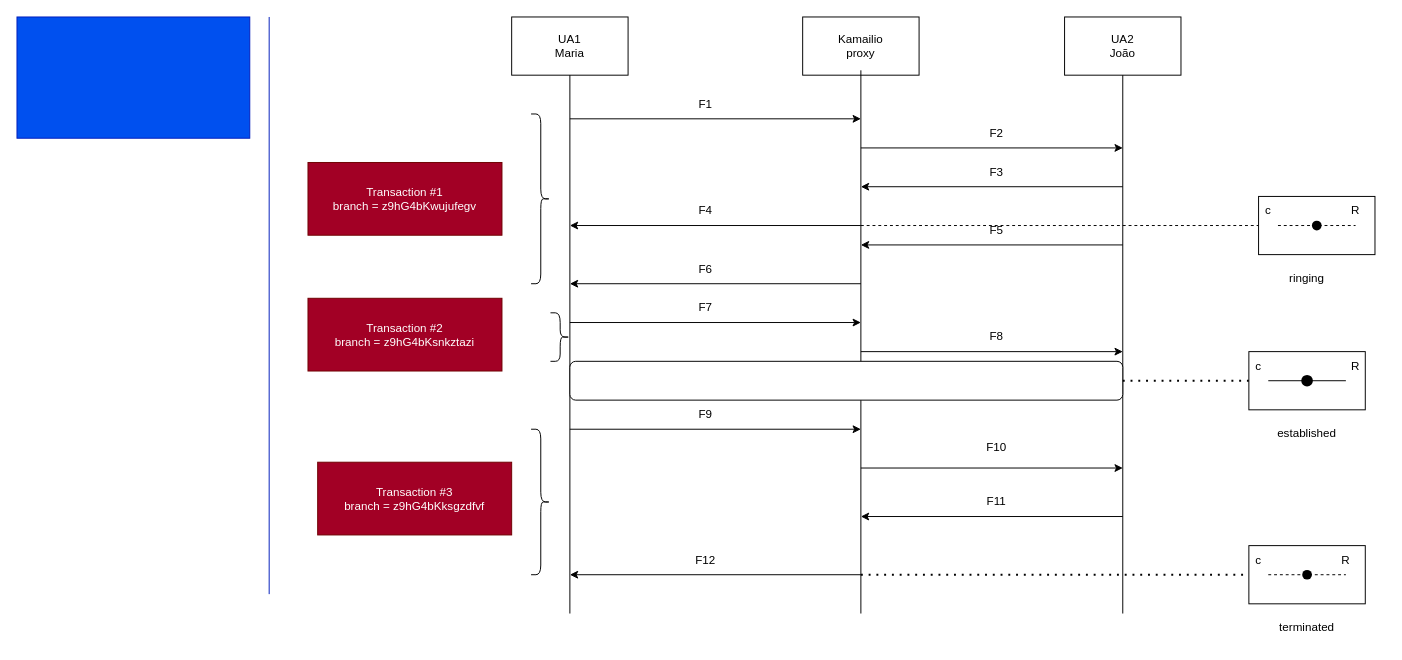
Some shapes in this 1402 by 660 pixel diagram are drawn without their labels. The shapes that lost their labels are listed below. From the top down, each one's centre as x and y in pixels, then its label:
At point 133,77: "Dialog #1 Call-ID:xpmeeqamjszgomu@terminal.maria From tag: nncyf To tag:bvasb".
At point 846,380: "RTP Media (direto UA1 <-> UA2)".
